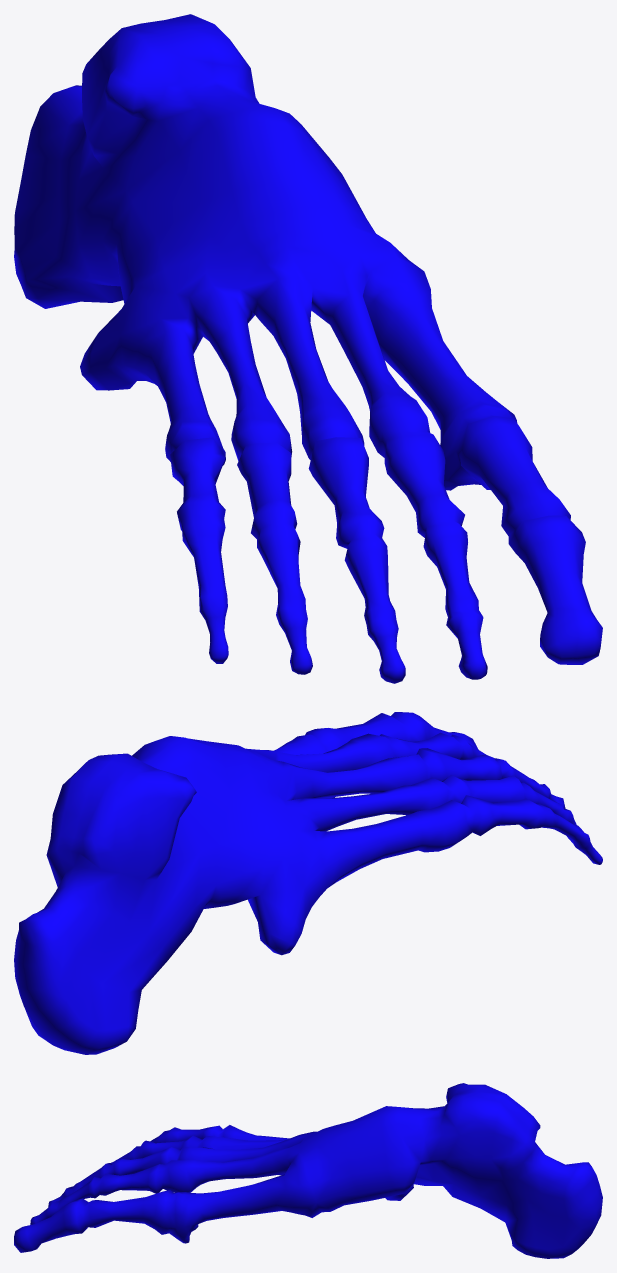
The model's file is SM_R_Foot.FBX.
3 renders of one model, top to bottom at view 1: azimuth 30°, elevation 25°; view 2: azimuth 150°, elevation 25°; view 3: azimuth 270°, elevation 25°, orthographic. The views are drawn at different scales.
Parts seen in each view (by area): view 1: R_Foot; view 2: R_Foot; view 3: R_Foot.
Boxes of the visible parts, x1,y1,x2,y2 form: R_Foot: (14,14,602,683); R_Foot: (14,712,602,1054); R_Foot: (14,1083,602,1258).
Bounding box in the file's own units: 11.01 × 8.53 × 27.44.
